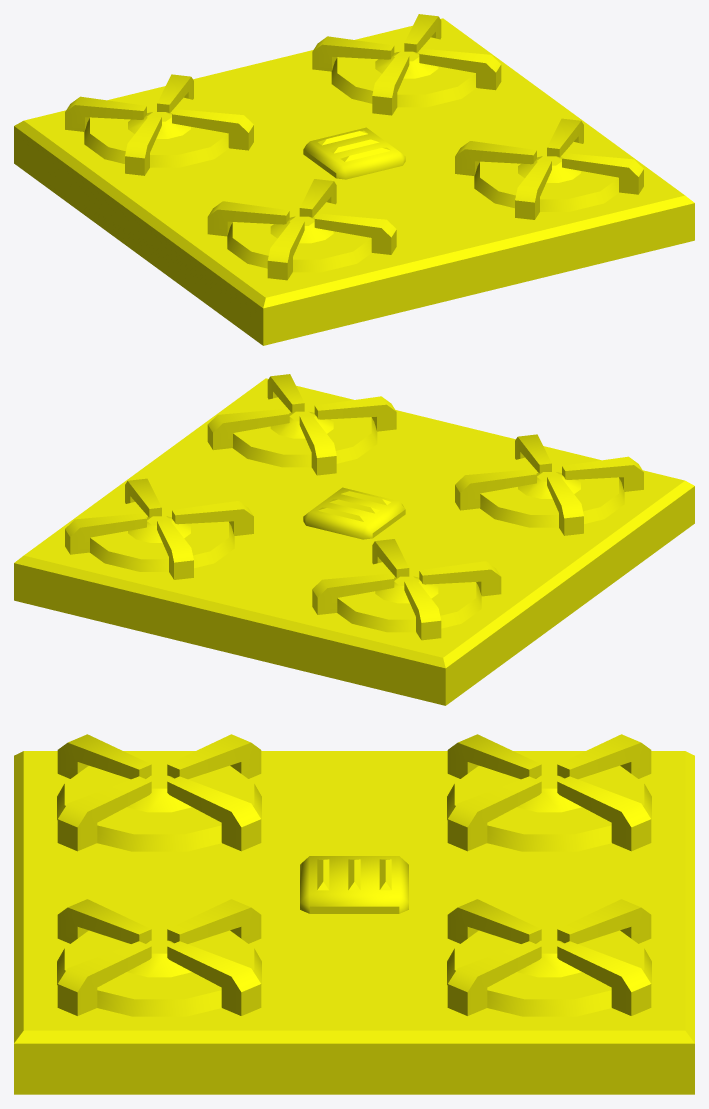
Rendered from stove_multi_countertop.gltf.
3 views of the same model, one above another, from view 1: azimuth 30°, elevation 25°; view 2: azimuth 150°, elevation 25°; view 3: azimuth 270°, elevation 25° (orthographic). The views are drawn at different scales.
Visible parts, largest first — view 1: stove_multi_countertop; view 2: stove_multi_countertop; view 3: stove_multi_countertop.
Part boxes in pixels (bbox=[...]): stove_multi_countertop: bbox=[14, 14, 694, 345]; stove_multi_countertop: bbox=[14, 374, 694, 705]; stove_multi_countertop: bbox=[14, 734, 694, 1094].
Size of the model in its own units: 1.75 by 0.27 by 1.75.
Materials: 1 (1 with a texture image).
